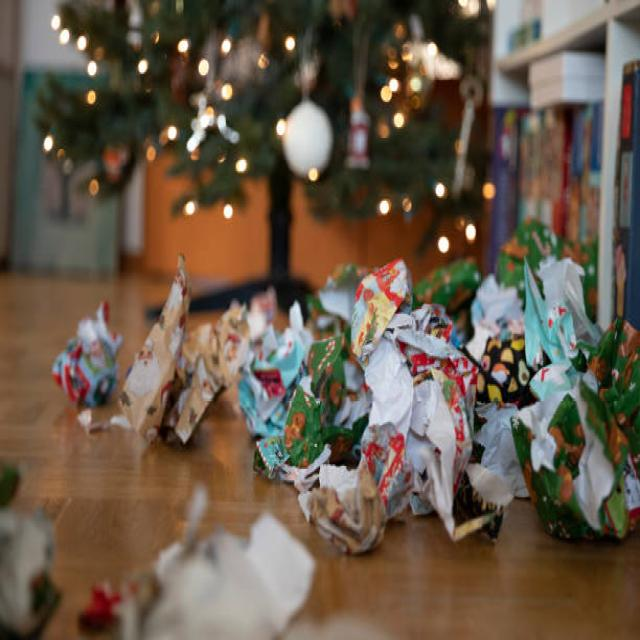paper: (165, 323, 640, 529), (321, 295, 514, 554), (125, 281, 231, 434)
